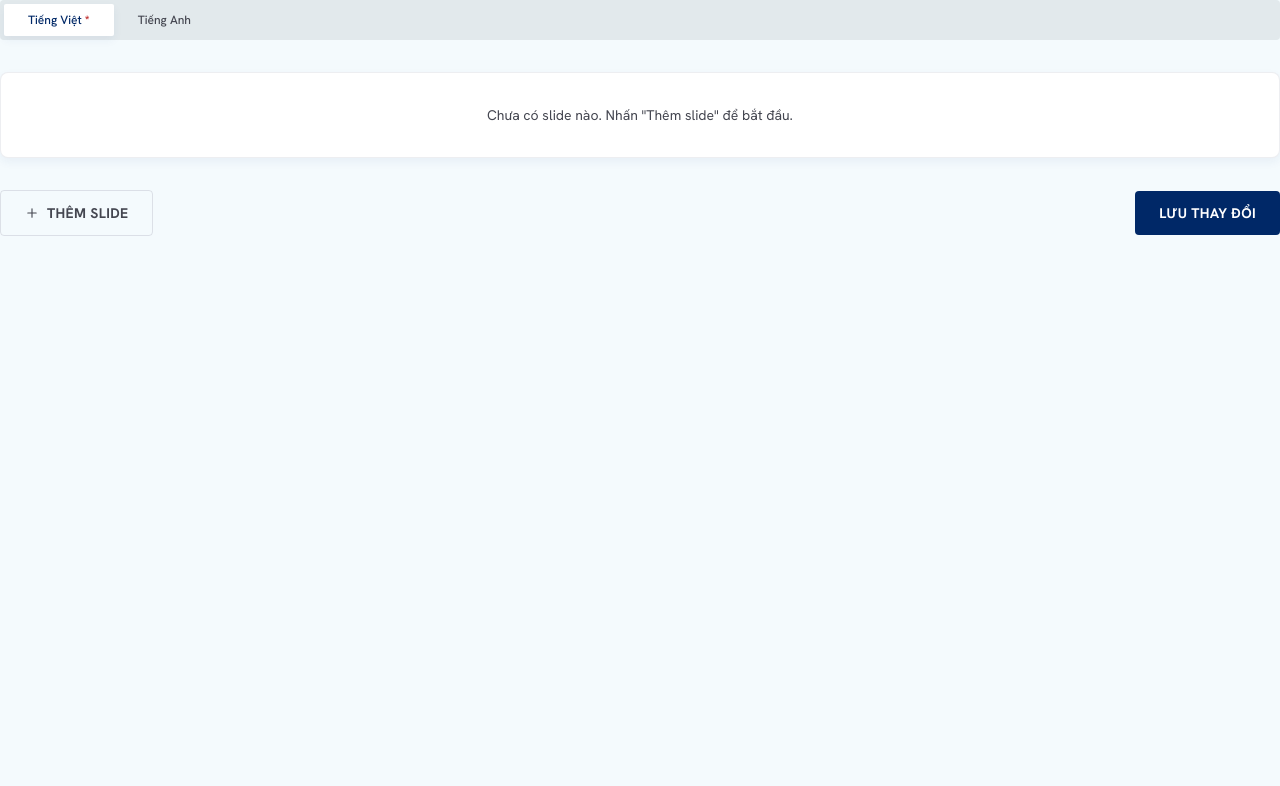
it: HeroSlidesForm › per-slide status › defaults a new slide to draft
Click the button "Thêm slide": click(77, 213) [0, 190, 153, 236]
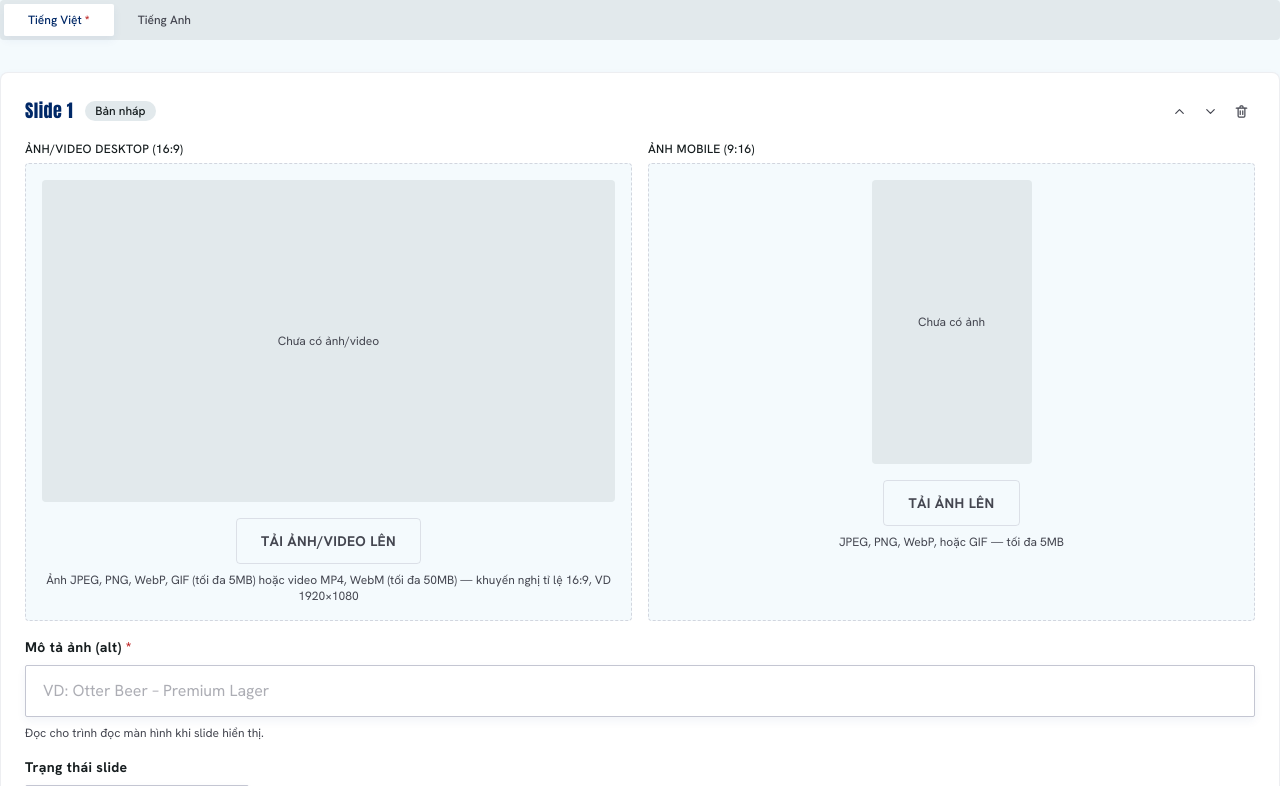
Expected: the 1st text "Bản nháp" is shown, [85, 101, 156, 121]
